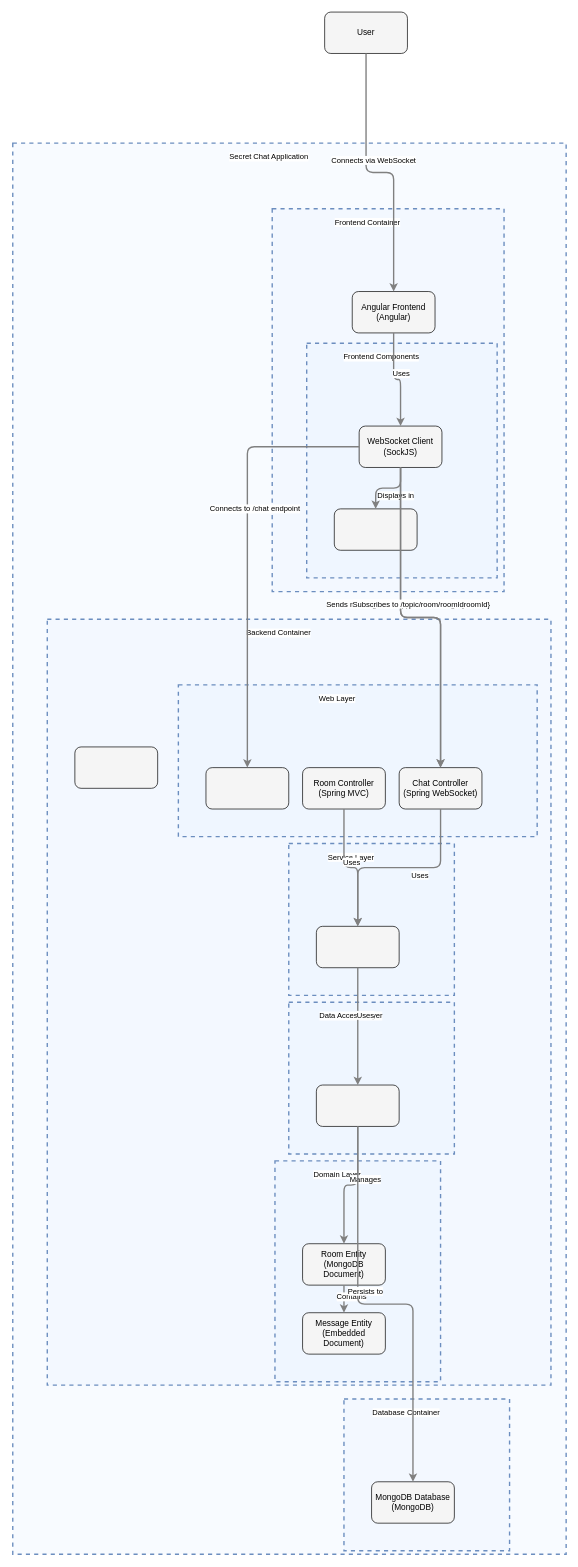
The diagram is 578 pixels wide and 1567 high, and some of its shapes have lost their labels. The centre of each missing label's shape, as x and y in pixels:
Chat Interface (Angular Components): pixel 375 529
Room Repository (Spring Data MongoDB): pixel 357 1105
Room Service (Spring Service): pixel 357 947
Spring Boot Application (Spring Boot): pixel 116 767
WebSocket Config (Spring WebSocket): pixel 247 788
